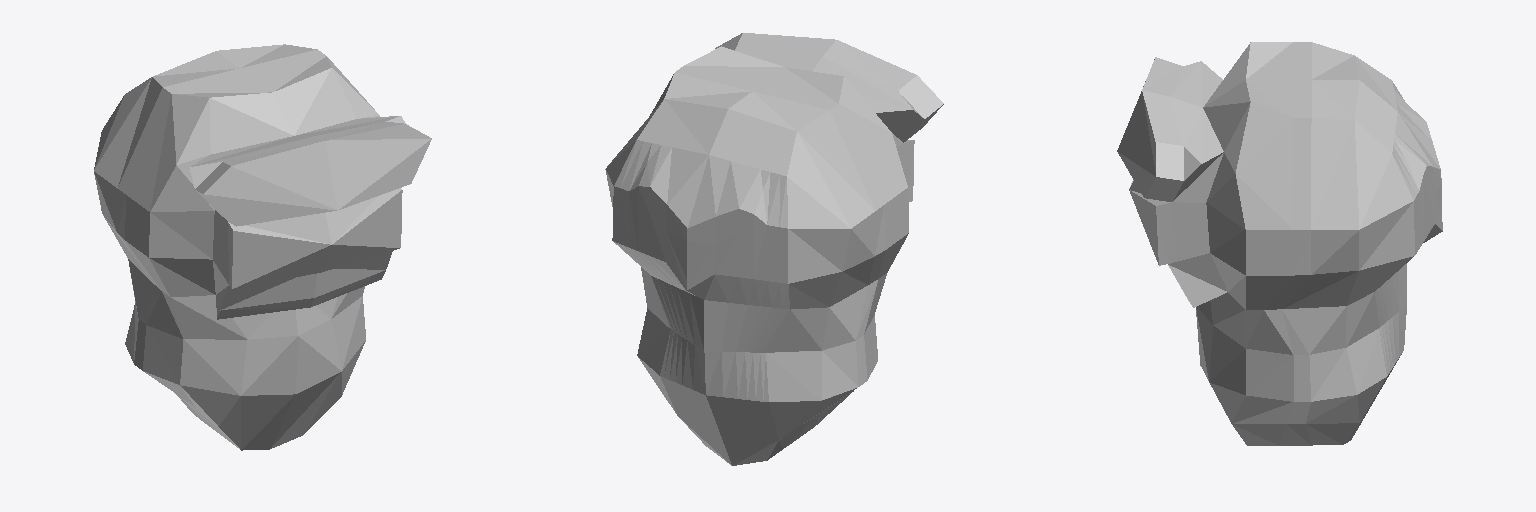
The model's file is body.sgm.obj.
3 renders of one model, left to right at view 1: azimuth 30°, elevation 25°; view 2: azimuth 150°, elevation 25°; view 3: azimuth 270°, elevation 25°, orthographic.
Bounding box in the file's own units: 0.5099 × 0.721 × 0.5789.